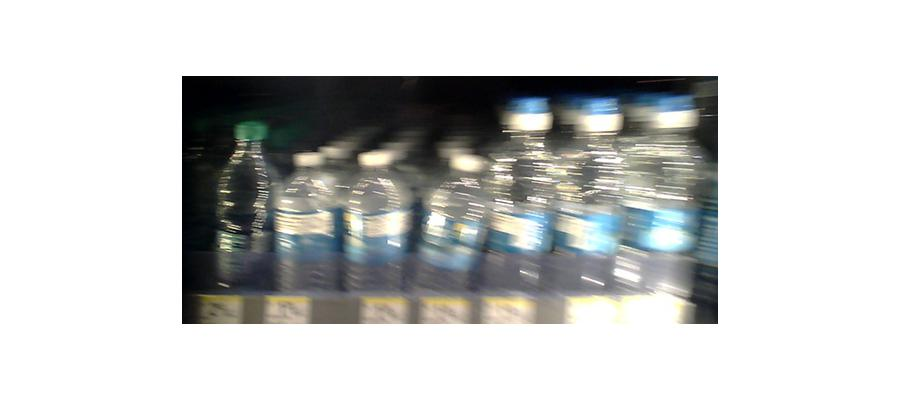bottle: (618, 87, 705, 290), (556, 96, 620, 296), (490, 105, 554, 291), (210, 121, 273, 295), (416, 151, 487, 303), (343, 156, 411, 297), (278, 165, 343, 296)
